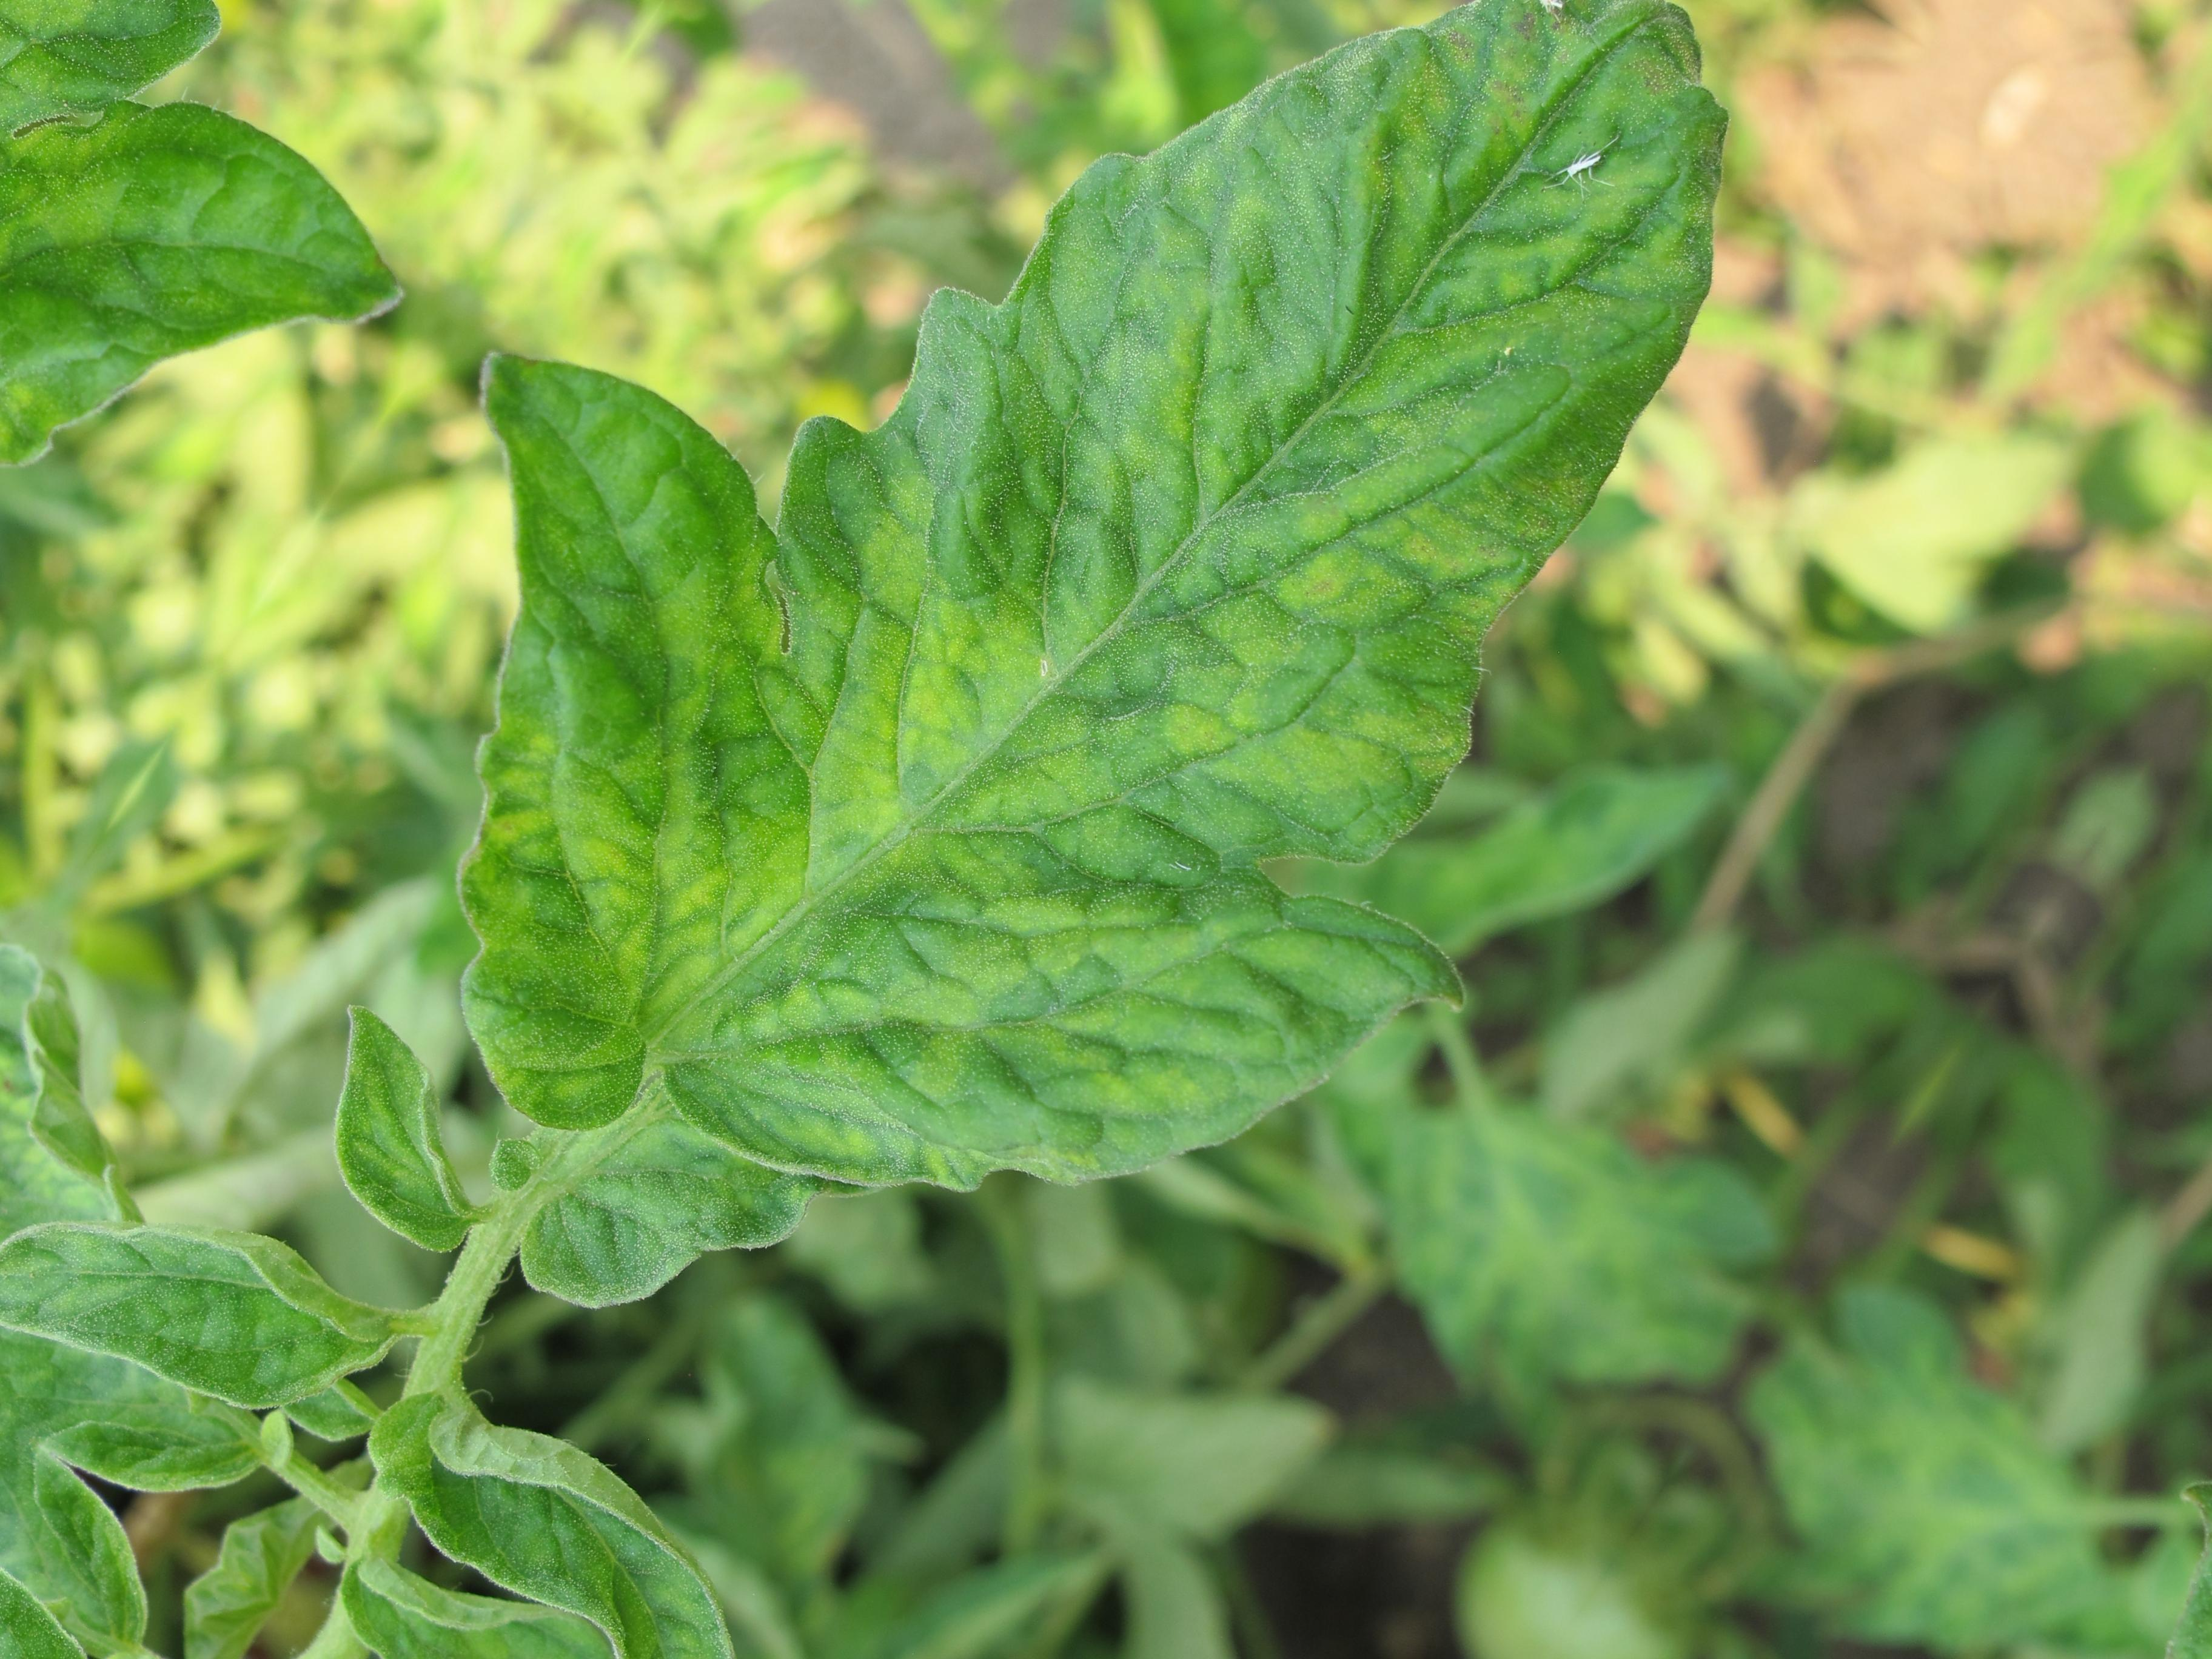Tomato leaf mosaic virus: (91, 0, 2037, 1659)
